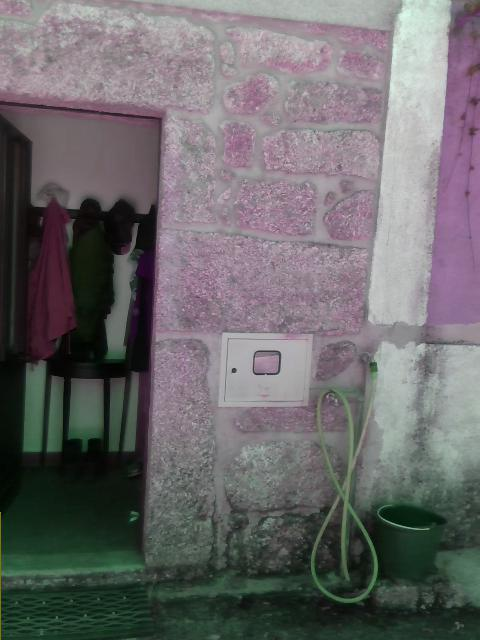open_door: (1, 102, 161, 578)
